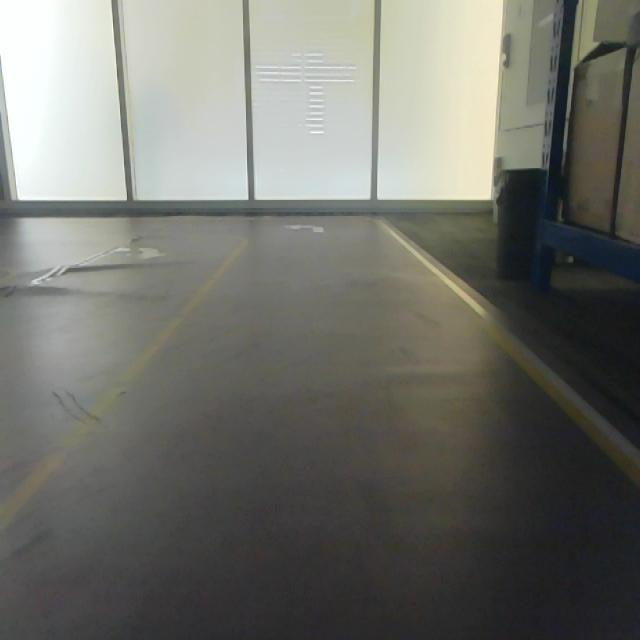left_lane: (1, 230, 250, 537)
right_lane: (382, 223, 639, 484)
